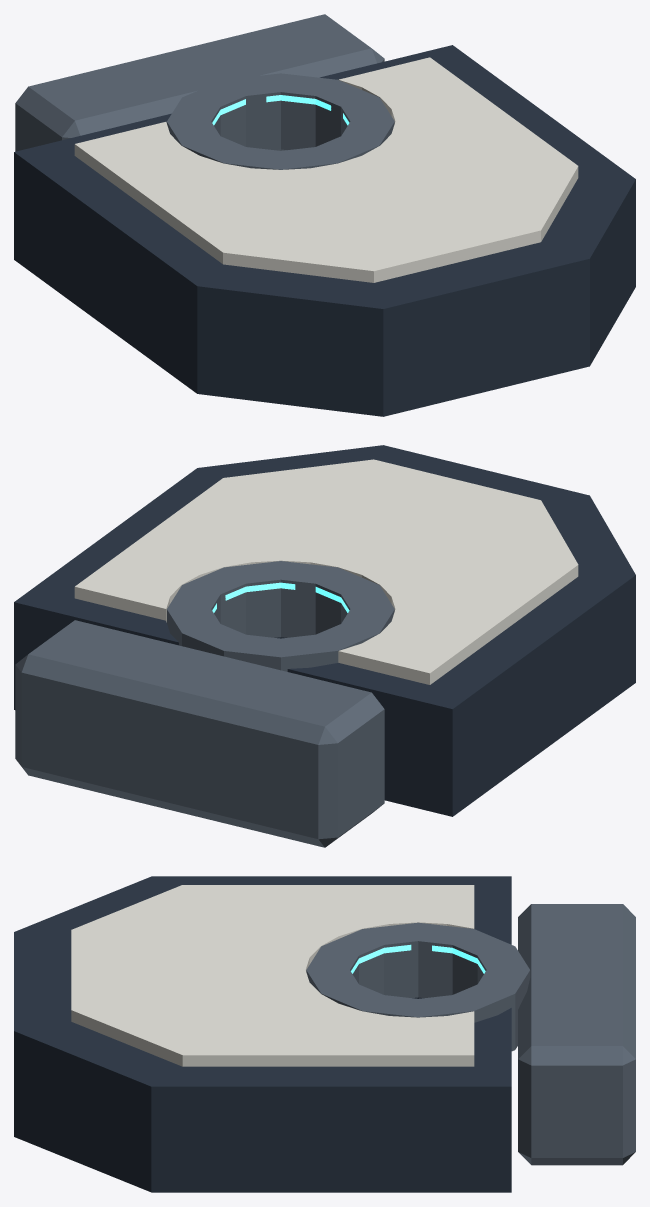
File: skill_cartridge.glb
The picture shows the model from 3 angles, top to bottom: view 1: azimuth 30°, elevation 25°; view 2: azimuth 150°, elevation 25°; view 3: azimuth 270°, elevation 25°; orthographic projection.
Parts seen in each view (by area): view 1: skill_cartridge__body, skill_cartridge__ivory_face, skill_cartridge__connector_base, skill_cartridge__primary_DCI-S_frame, skill_cartridge__primary_DCI-S_emissive; view 2: skill_cartridge__connector_base, skill_cartridge__ivory_face, skill_cartridge__body, skill_cartridge__primary_DCI-S_frame, skill_cartridge__primary_DCI-S_emissive; view 3: skill_cartridge__body, skill_cartridge__ivory_face, skill_cartridge__connector_base, skill_cartridge__primary_DCI-S_frame, skill_cartridge__primary_DCI-S_emissive.
Part boxes in pixels (x1=…): skill_cartridge__body: x1=14, y1=45, x2=635, y2=416; skill_cartridge__ivory_face: x1=74, y1=57, x2=578, y2=282; skill_cartridge__connector_base: x1=15, y1=14, x2=384, y2=151; skill_cartridge__primary_DCI-S_frame: x1=167, y1=73, x2=394, y2=169; skill_cartridge__primary_DCI-S_emissive: x1=212, y1=95, x2=349, y2=125; skill_cartridge__connector_base: x1=15, y1=620, x2=384, y2=847; skill_cartridge__ivory_face: x1=74, y1=459, x2=578, y2=684; skill_cartridge__body: x1=14, y1=445, x2=635, y2=816; skill_cartridge__primary_DCI-S_frame: x1=167, y1=561, x2=394, y2=671; skill_cartridge__primary_DCI-S_emissive: x1=212, y1=582, x2=349, y2=612; skill_cartridge__body: x1=14, y1=876, x2=511, y2=1192; skill_cartridge__ivory_face: x1=71, y1=885, x2=474, y2=1066; skill_cartridge__connector_base: x1=518, y1=904, x2=635, y2=1165; skill_cartridge__primary_DCI-S_frame: x1=306, y1=922, x2=530, y2=1051; skill_cartridge__primary_DCI-S_emissive: x1=351, y1=944, x2=485, y2=973.
Size of the model in its own units: 0.8 by 0.22 by 1.
